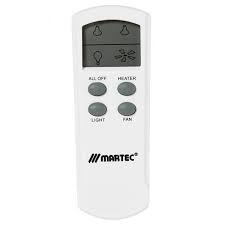remote control: (75, 9, 148, 215)
